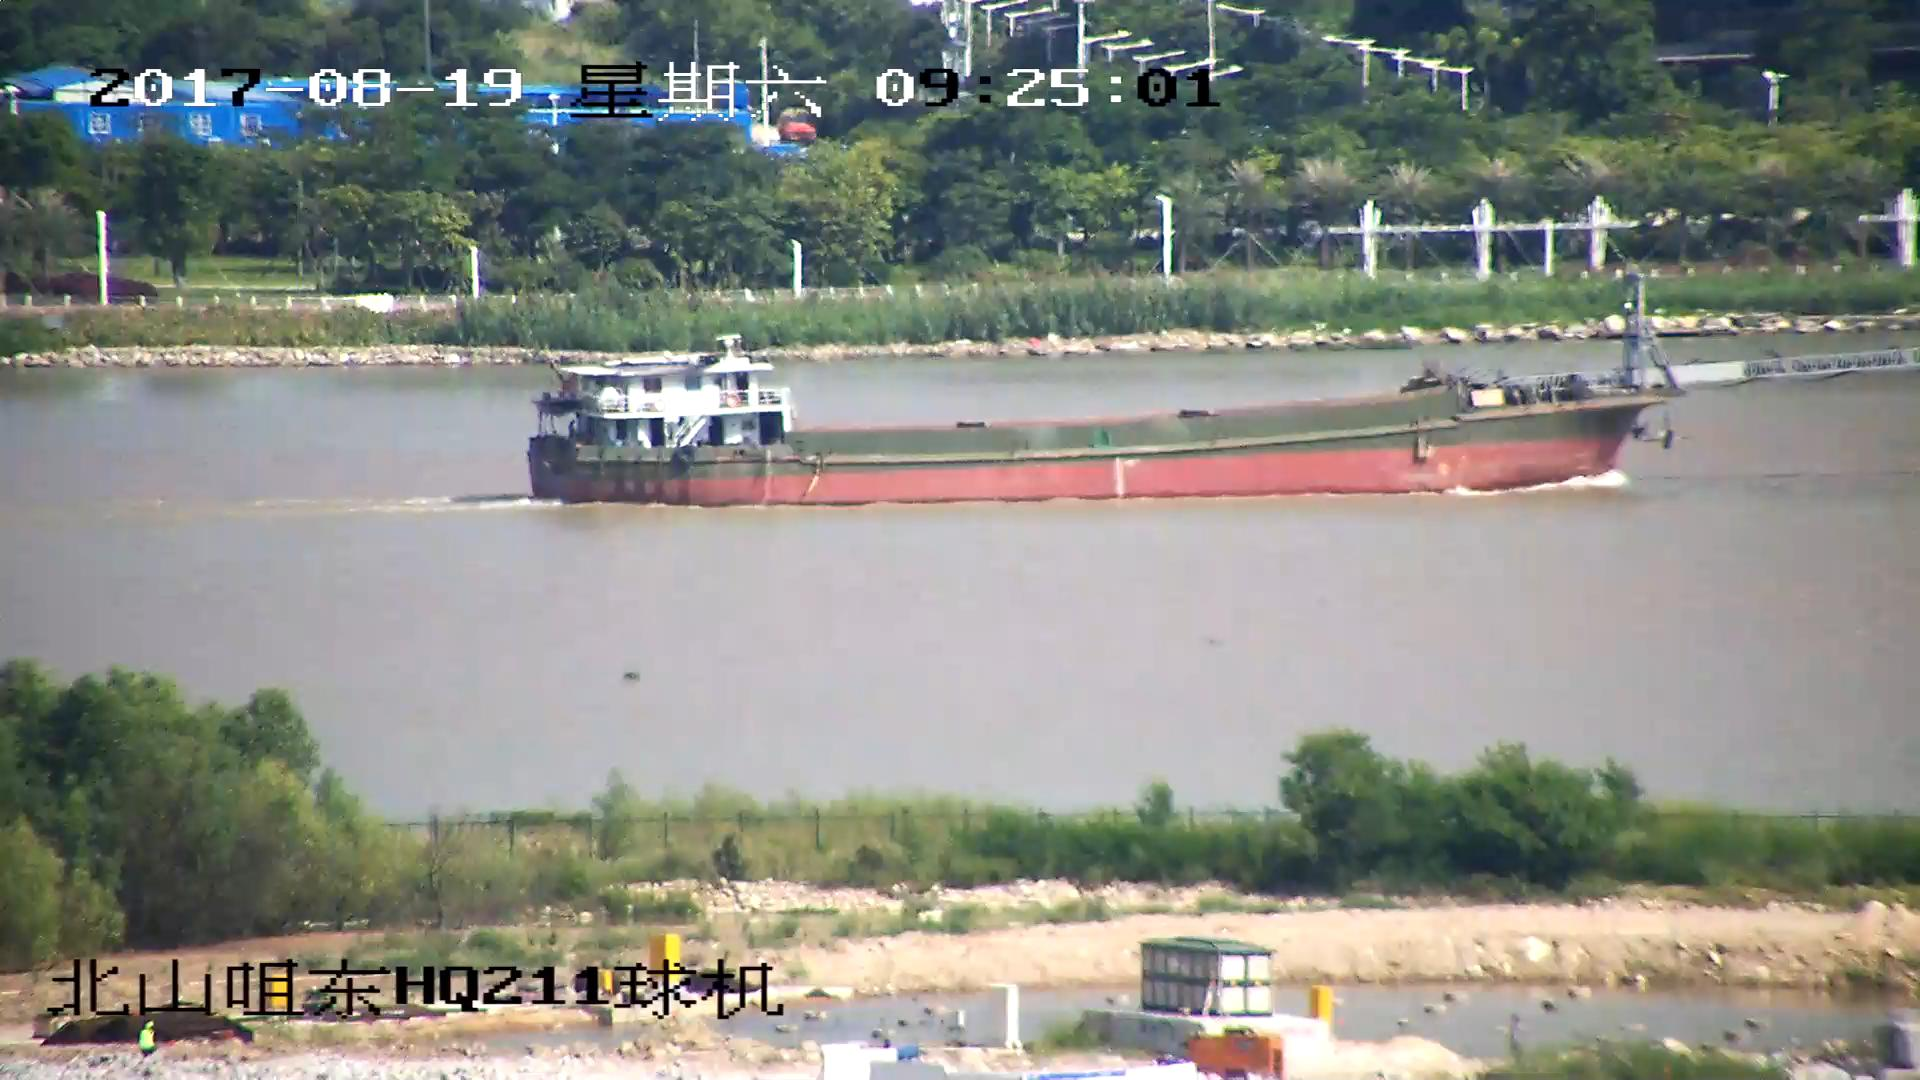bulk cargo carrier: (528, 274, 1920, 507)
